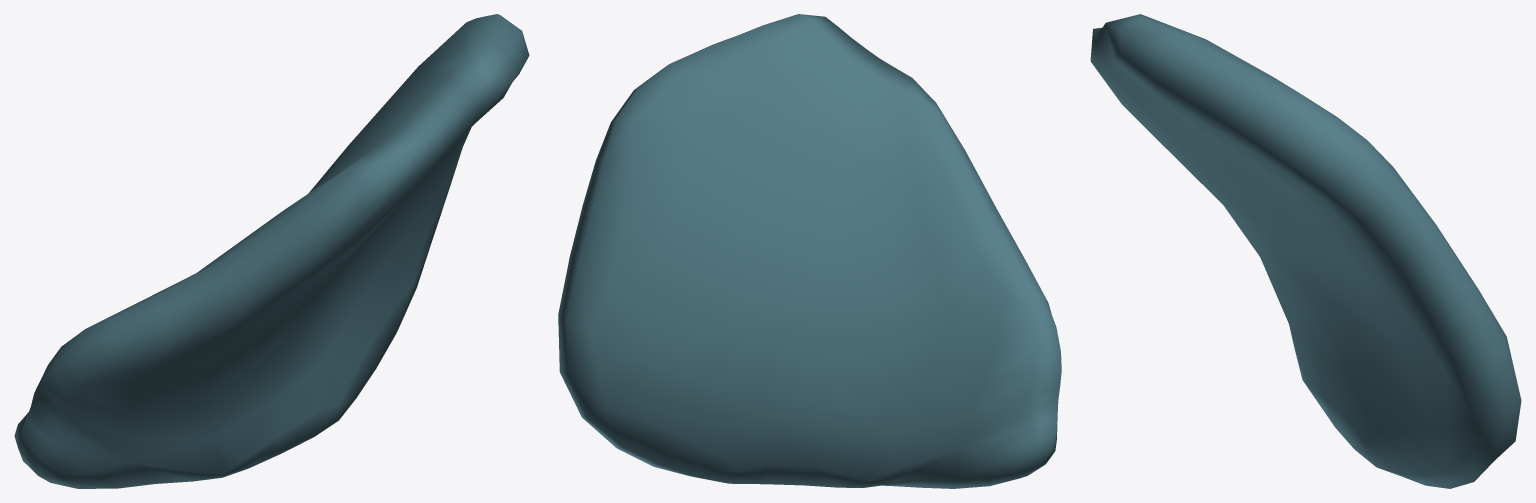
The model's file is Rectus_posterior_minor_capitis_atlas_right.glb.
3 views of the same model, side by side, from view 1: azimuth 30°, elevation 25°; view 2: azimuth 150°, elevation 25°; view 3: azimuth 270°, elevation 25° (orthographic). The views are drawn at different scales.
Visible parts, largest first — view 1: Rectus_posterior_minor_capitis_on_atlas.r_Generated_Mesh_Fro; view 2: Rectus_posterior_minor_capitis_on_atlas.r_Generated_Mesh_Fro; view 3: Rectus_posterior_minor_capitis_on_atlas.r_Generated_Mesh_Fro.
Boxes of the visible parts, x1,y1,x2,y2 form: Rectus_posterior_minor_capitis_on_atlas.r_Generated_Mesh_Fro: (14,14,529,488); Rectus_posterior_minor_capitis_on_atlas.r_Generated_Mesh_Fro: (558,14,1061,488); Rectus_posterior_minor_capitis_on_atlas.r_Generated_Mesh_Fro: (1090,14,1521,488).
Bounding box in the file's own units: 0.00388 × 0.00331 × 0.0027.
